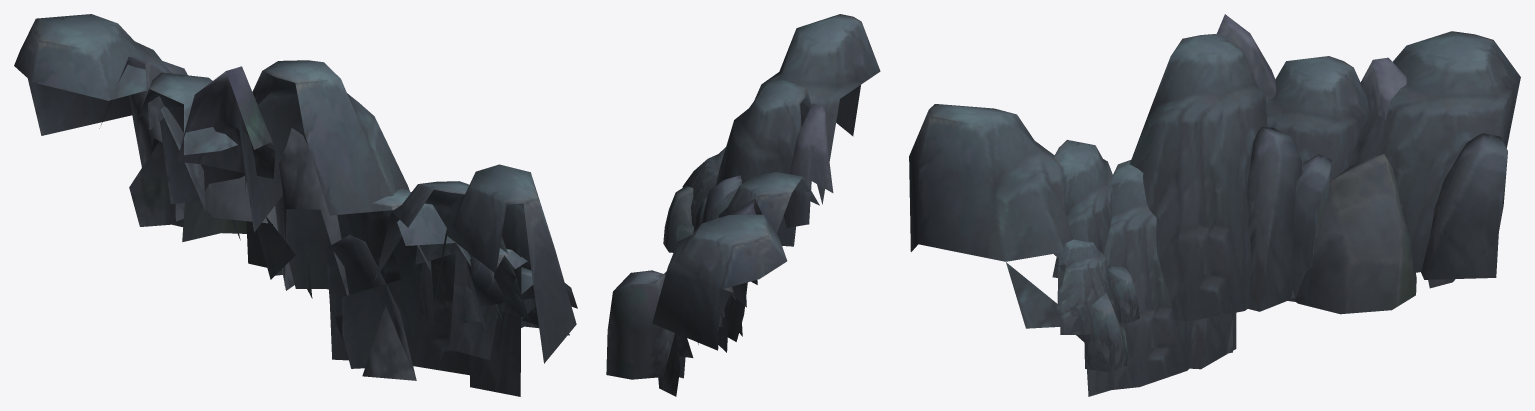
Rendered from Area_11_19.fbx.
3 views of the same model, side by side, from view 1: azimuth 30°, elevation 25°; view 2: azimuth 150°, elevation 25°; view 3: azimuth 270°, elevation 25° (orthographic). The views are drawn at different scales.
Visible parts, largest first — view 1: Area_11_19; view 2: Area_11_19; view 3: Area_11_19.
Part boxes in pixels (x1,y1,x2,y2): Area_11_19: (14,14,577,396); Area_11_19: (606,14,880,396); Area_11_19: (909,14,1520,396).
Size of the model in its own units: 6050 by 5616 by 10763.
